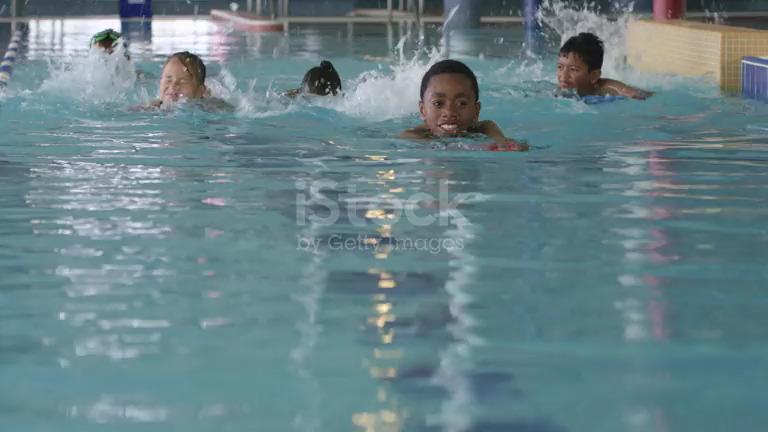Swimming: (380, 43, 546, 164), (521, 14, 684, 113), (118, 24, 236, 121), (268, 44, 362, 128)
